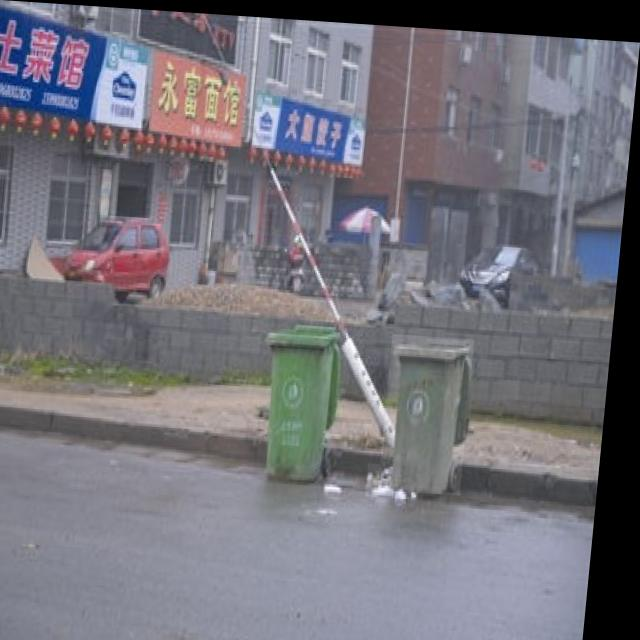garbage: (374, 457, 427, 493)
garbage_bin: (387, 328, 481, 489), (261, 314, 348, 479)
